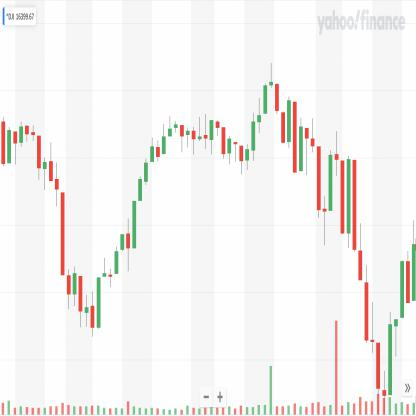Bearish: 3 Black Crows: (352, 156, 370, 346)
Bearish: Evening Star Doji: (327, 126, 346, 240)
Bearish: Shooting Star: (262, 57, 280, 119)
Bullish: Morning Star Doji: (315, 140, 334, 249)
